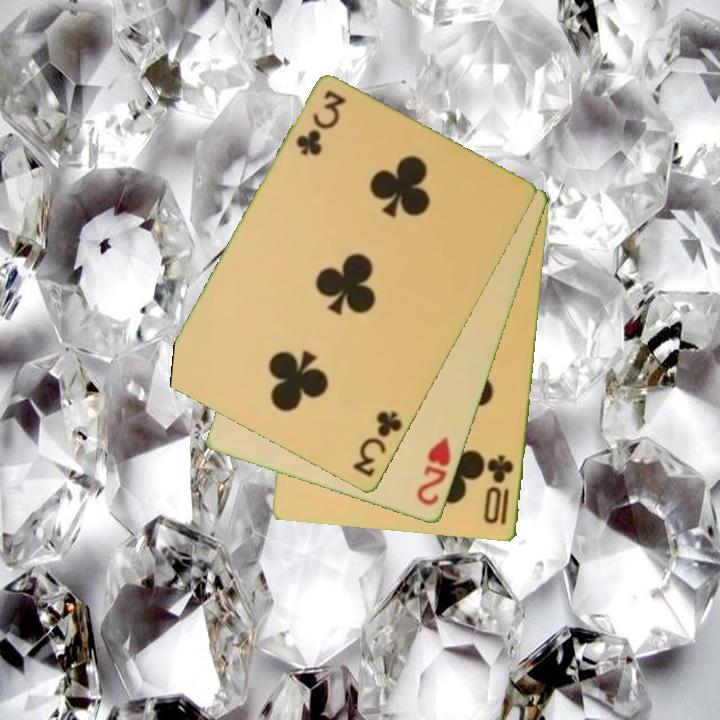10c: (481, 452, 517, 529)
2h: (413, 433, 454, 509)
3c: (349, 407, 406, 481), (292, 86, 349, 160)
